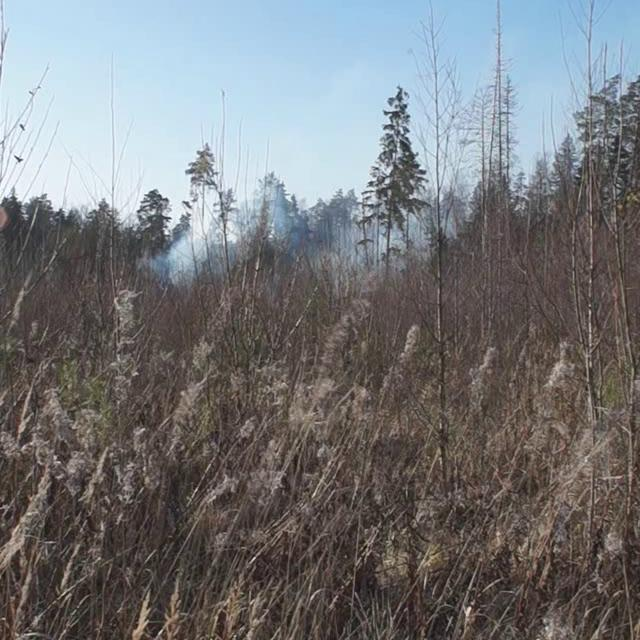Smoke: (127, 162, 490, 294)
